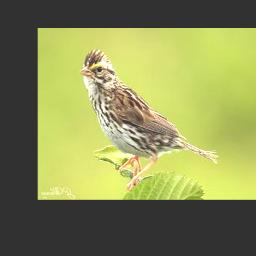Sparrow: (80, 45, 220, 193)
